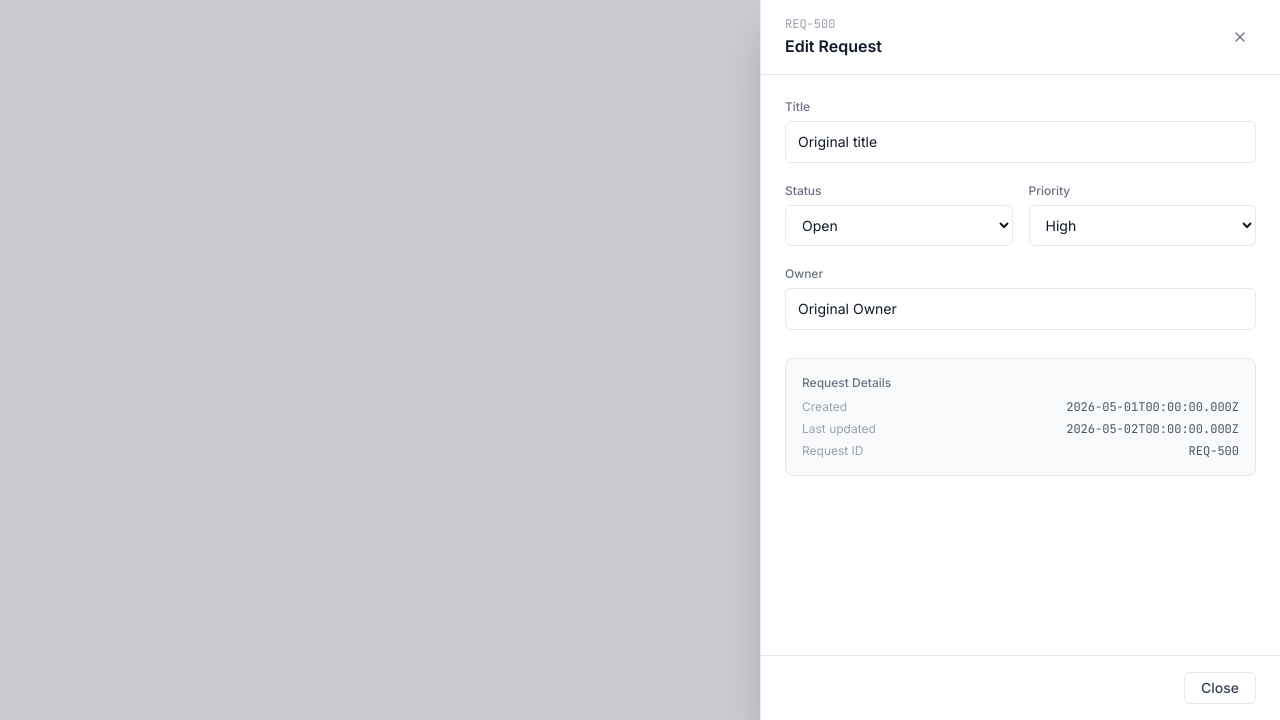
Test case: EditDrawer unsaved changes › marks the form dirty when the title changes
Replace the text in the field labelled "Title" with "New title" at x=1020, y=142, box [785,121,1256,163]
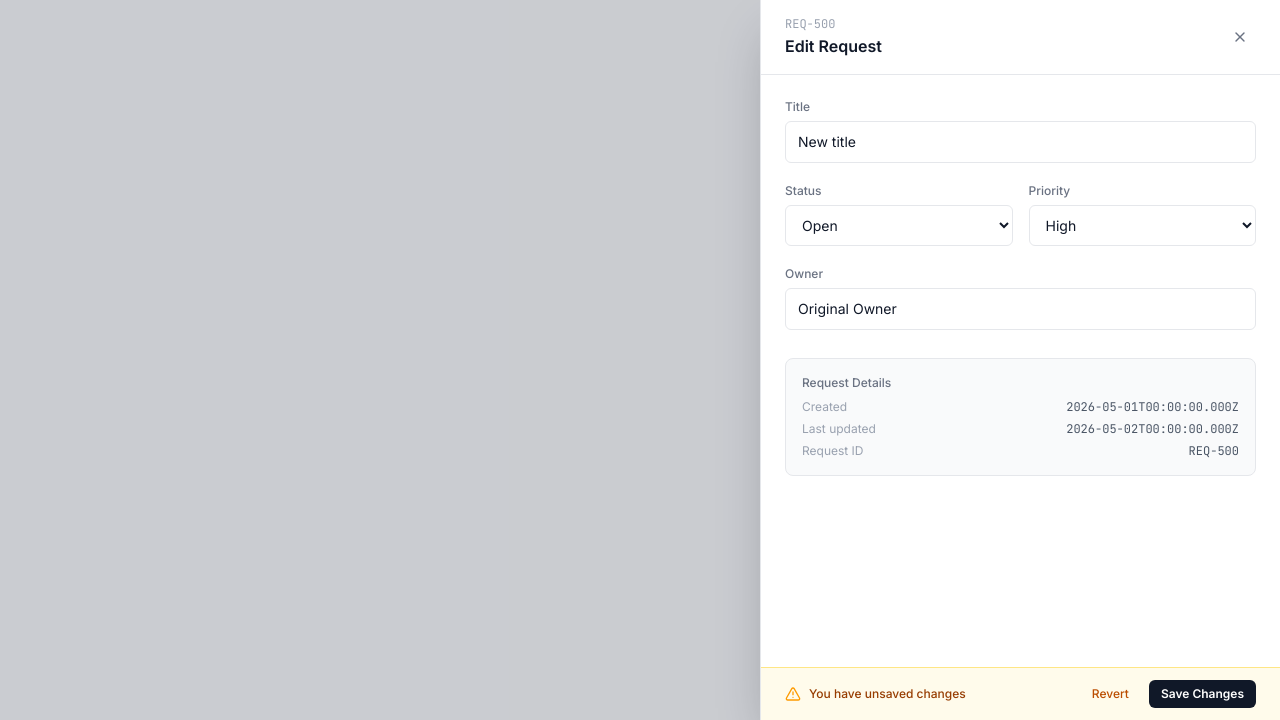
Now the text "You have unsaved changes" is shown, box [809,686,966,702]
Now the button "Save Changes" is shown, box [1149,680,1256,708]
Now the button "Revert" is shown, box [1080,680,1141,708]
